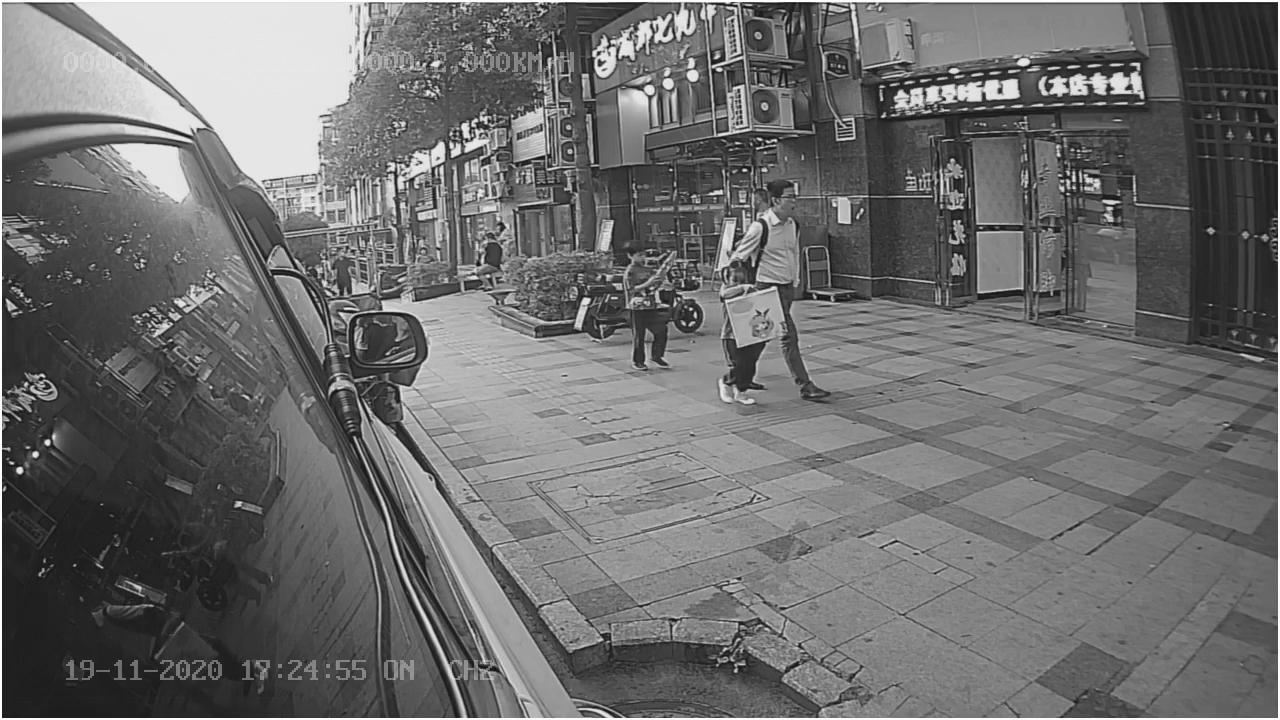person: (615, 239, 680, 378), (746, 173, 807, 288)
